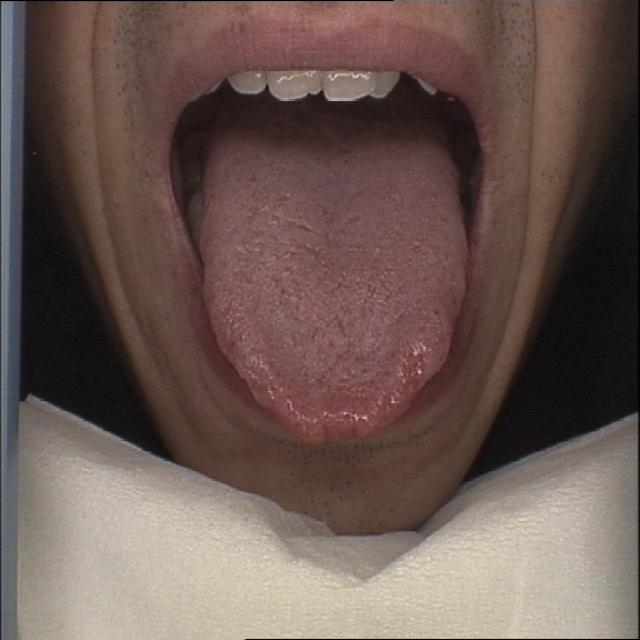tongue: (193, 109, 475, 450)
